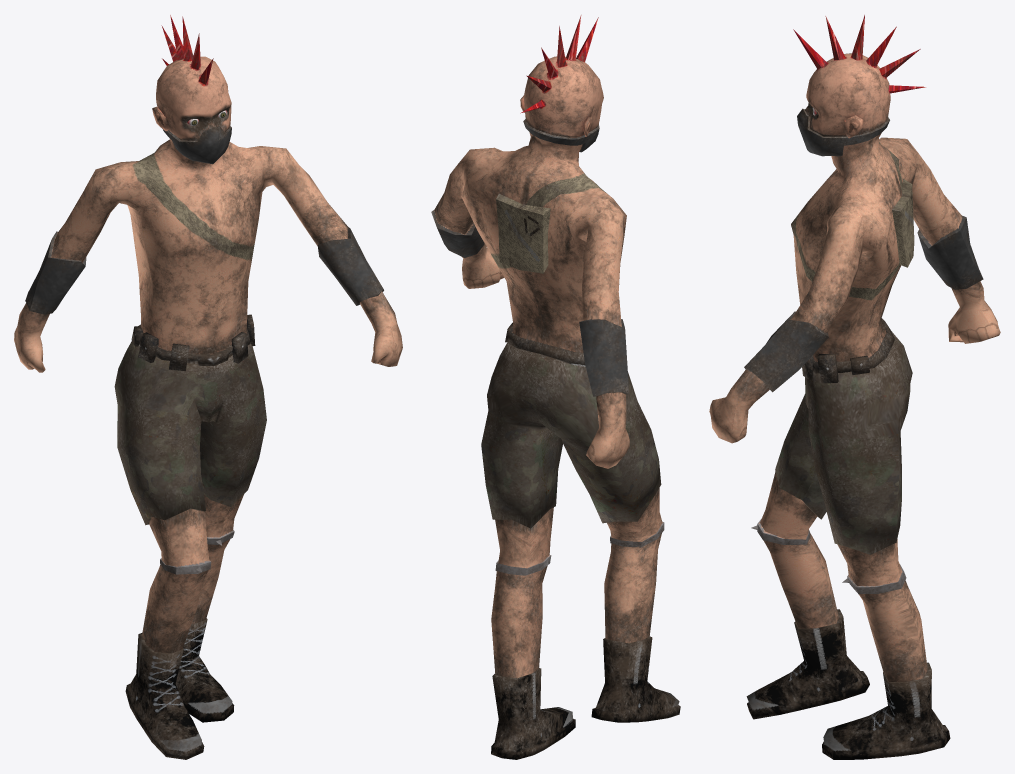
File: Anim_andar_npc2.0022.obj
3 views of the same model, side by side, from view 1: azimuth 30°, elevation 25°; view 2: azimuth 150°, elevation 25°; view 3: azimuth 270°, elevation 25° (orthographic). The views are drawn at different scales.
Parts seen in each view (by area): view 1: Anim_andar_npc2; view 2: Anim_andar_npc2; view 3: Anim_andar_npc2.
Part boxes in pixels (x1,y1,x2,y2): Anim_andar_npc2: (14,15,402,759); Anim_andar_npc2: (431,15,680,759); Anim_andar_npc2: (709,15,1000,759).
Bounding box in the file's own units: 4.15 × 10.18 × 3.69.
